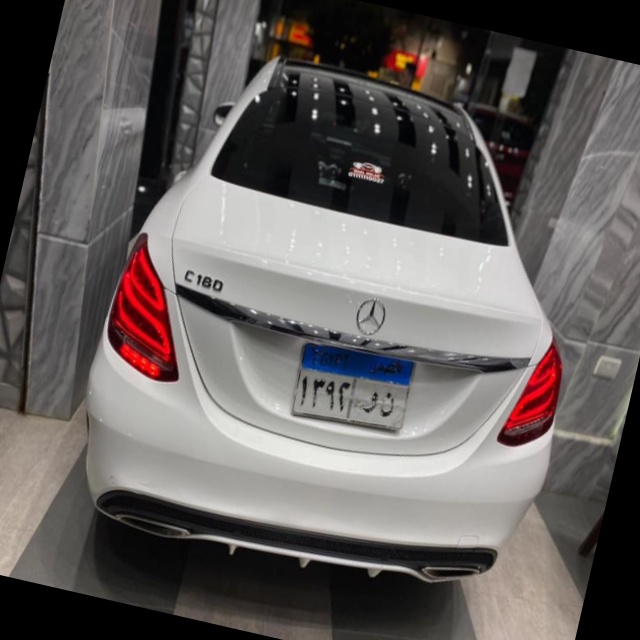License Plate: (287, 336, 418, 441)
